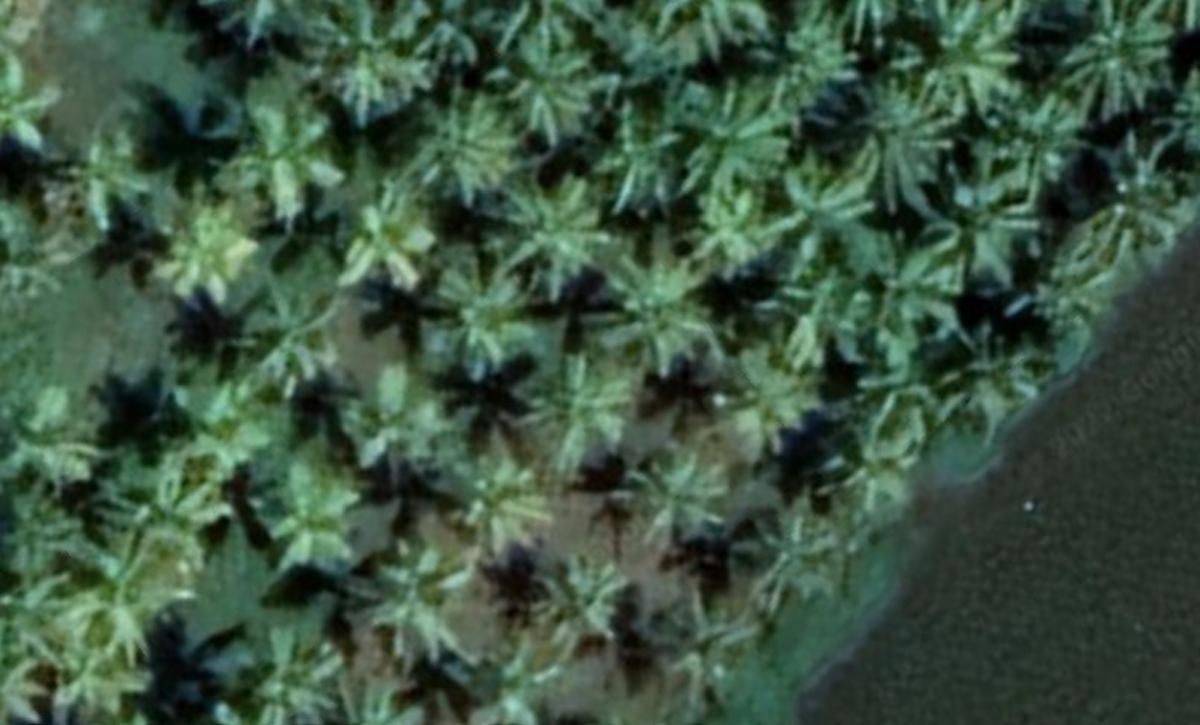coconut: (95, 455, 233, 579), (671, 69, 800, 199), (535, 352, 649, 491), (589, 251, 705, 379), (830, 78, 946, 206), (217, 110, 348, 223), (495, 26, 620, 142), (500, 171, 614, 293), (334, 369, 455, 482), (407, 84, 518, 206), (297, 1, 431, 102), (522, 547, 634, 663), (151, 197, 265, 308), (1061, 5, 1180, 111), (845, 232, 952, 345), (436, 267, 541, 382), (367, 541, 468, 660), (442, 454, 552, 562), (759, 157, 865, 269), (821, 394, 924, 509), (226, 623, 342, 725), (951, 320, 1063, 425), (932, 166, 1033, 281), (232, 273, 329, 390), (707, 343, 814, 446), (644, 589, 753, 690), (267, 460, 361, 573), (345, 192, 446, 296), (634, 455, 732, 556), (751, 513, 844, 610), (762, 275, 845, 370), (693, 181, 771, 267)
